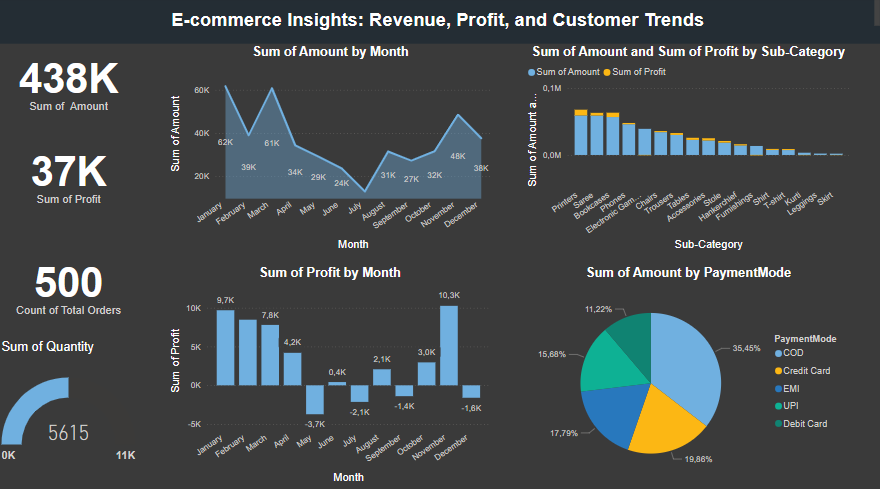

The page's visual inventory and layout, read from the dashboard file:
{"tool":"powerbi","page":{"name":"Page 1","canvas":[1280,720],"ordinal":0},"visuals":[{"type":"textbox","box":[0,0,1279.5,69.4],"z":0},{"type":"card","fields":{"Values":["Sum(Details Dataset.Amount)"]},"box":[0,69.4,203.9,107],"z":1000},{"type":"card","fields":{"Values":["CountNonNull(Orders Dataset.Total Orders)"]},"box":[0,338.3,203.9,157.6],"z":2000},{"type":"card","fields":{"Values":["Sum(Details Dataset.Profit)"]},"box":[0,176.4,203.9,161.9],"z":3000},{"type":"gauge","fields":{"Y":["Sum(Details Dataset.Quantity)"]},"box":[0,495.9,203.9,214],"z":4000},{"type":"stackedAreaChart","fields":{"Category":["Orders Dataset.Order Date.Variácia.Date Hierarchy.Month"],"Y":["Sum(Details Dataset.Amount)"]},"box":[244.3,69.4,472.8,303.6],"z":5000},{"type":"columnChart","fields":{"Category":["Details Dataset.Sub-Category"],"Y":["Sum(Details Dataset.Amount)","Sum(Details Dataset.Profit)"]},"box":[759.8,69.7,475.3,303.1],"z":6000},{"type":"pieChart","fields":{"Category":["Details Dataset.PaymentMode"],"Y":["Sum(Details Dataset.Amount)"]},"box":[760.5,388.9,475.7,321],"z":7000},{"type":"lineStackedColumnComboChart","fields":{"Category":["Orders Dataset.Order Date.Variácia.Date Hierarchy.Month"],"Y":["Sum(Details Dataset.Profit)"]},"box":[244.3,388.9,471.3,321],"z":8000}]}

Visuals, with their boxes in screenshot pixels (x1, y1, x2, y2), scaled from the page's 1280x720 canvas onto the 880x489 screenshot:
textbox: region(0, 0, 879, 47)
card - Sum(Details Dataset.Amount): region(0, 47, 140, 120)
card - CountNonNull(Orders Dataset.Total Orders): region(0, 230, 140, 337)
card - Sum(Details Dataset.Profit): region(0, 120, 140, 230)
gauge - Sum(Details Dataset.Quantity): region(0, 337, 140, 482)
stackedAreaChart - Orders Dataset.Order Date.Variácia.Date Hierarchy.Month x Sum(Details Dataset.Amount): region(168, 47, 493, 253)
columnChart - Details Dataset.Sub-Category x Sum(Details Dataset.Amount): region(522, 47, 849, 253)
pieChart - Details Dataset.PaymentMode x Sum(Details Dataset.Amount): region(523, 264, 850, 482)
lineStackedColumnComboChart - Orders Dataset.Order Date.Variácia.Date Hierarchy.Month x Sum(Details Dataset.Profit): region(168, 264, 492, 482)
